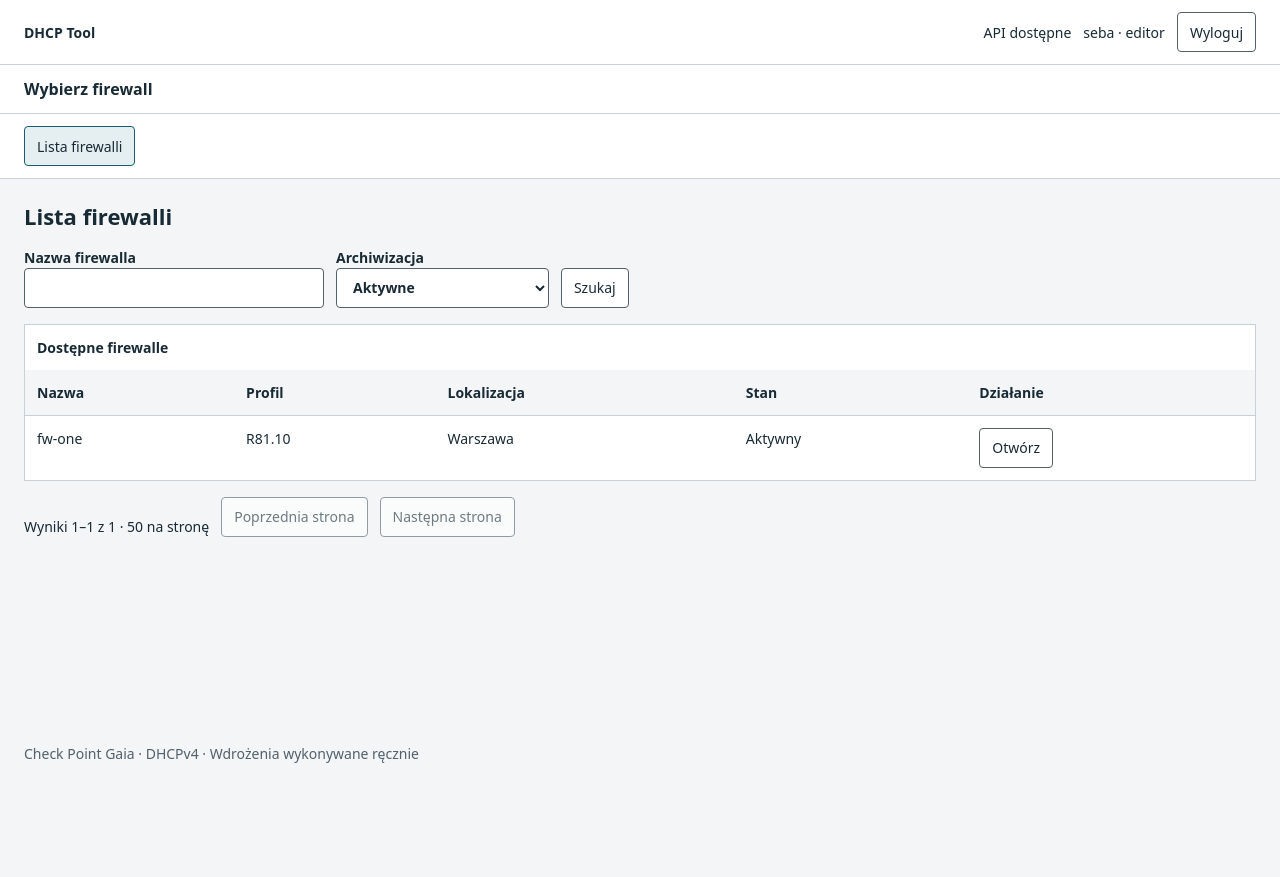
requires confirmation including all descendants before deleting a subnet
Step 1. Click the button with aria-label "Otwórz fw-one" → click(1016, 448), box [979,428,1053,468]
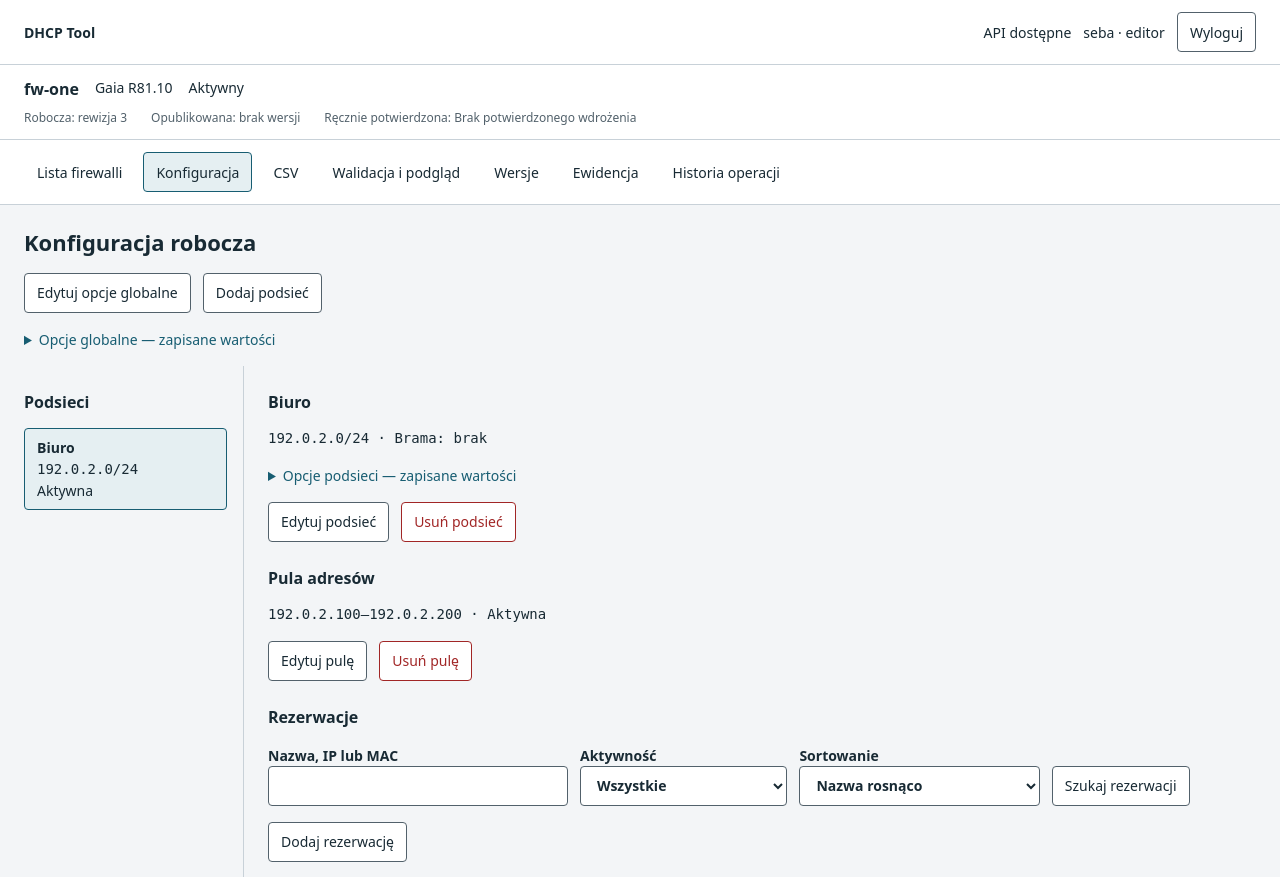
Expected: the heading "Konfiguracja robocza" is shown, [24,227,256,257]
Step 2. Click the button "Usuń podsieć" → click(458, 522), box [401,502,516,542]
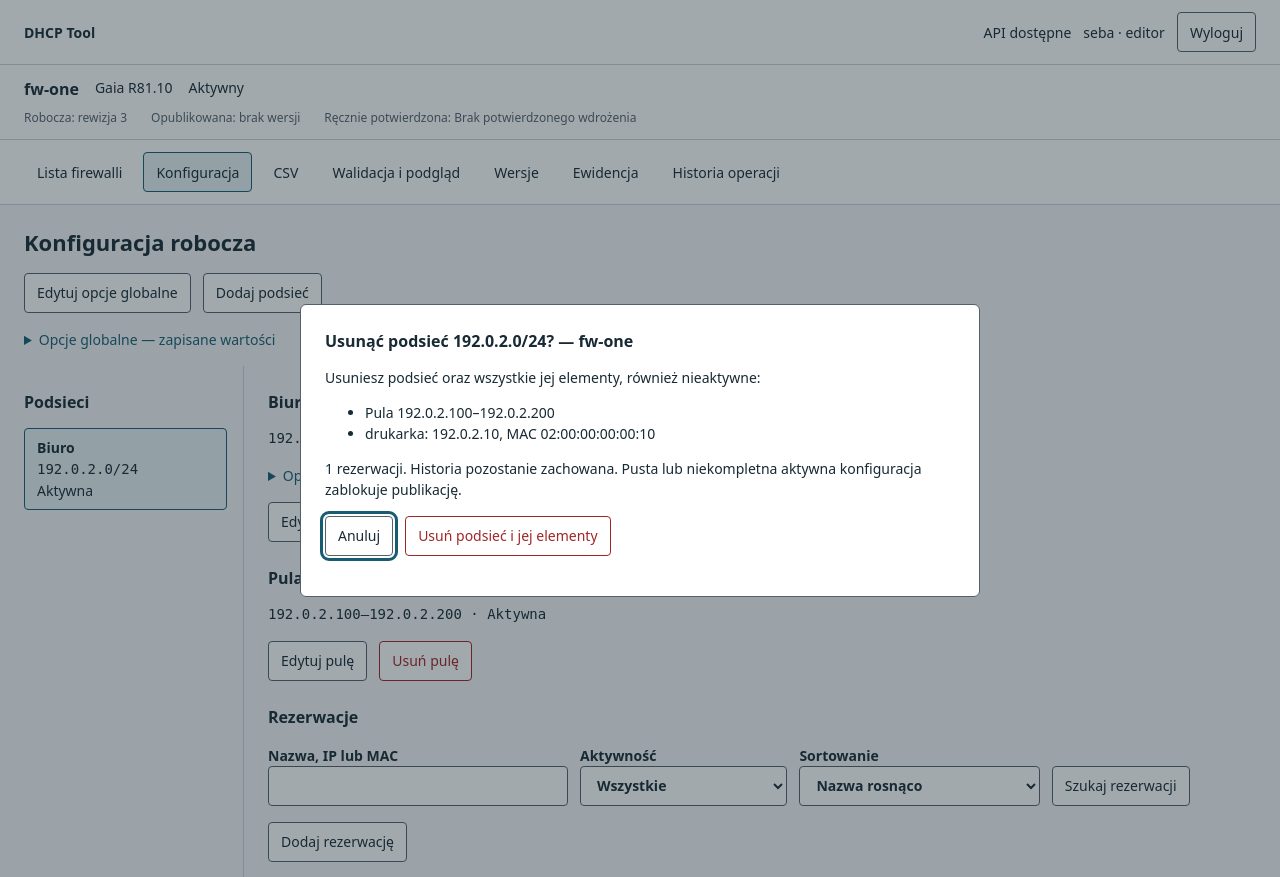
Expected: the list item "Pula 192.0.2.100–192.0.2.200" is shown, [365,402,555,422]
Expected: the list item "drukarka: 192.0.2.10, MAC 02:00:00:00:00:10" is shown, [365,424,655,442]
Step 3. Press Escape in the dialog, box [300,304,980,596]
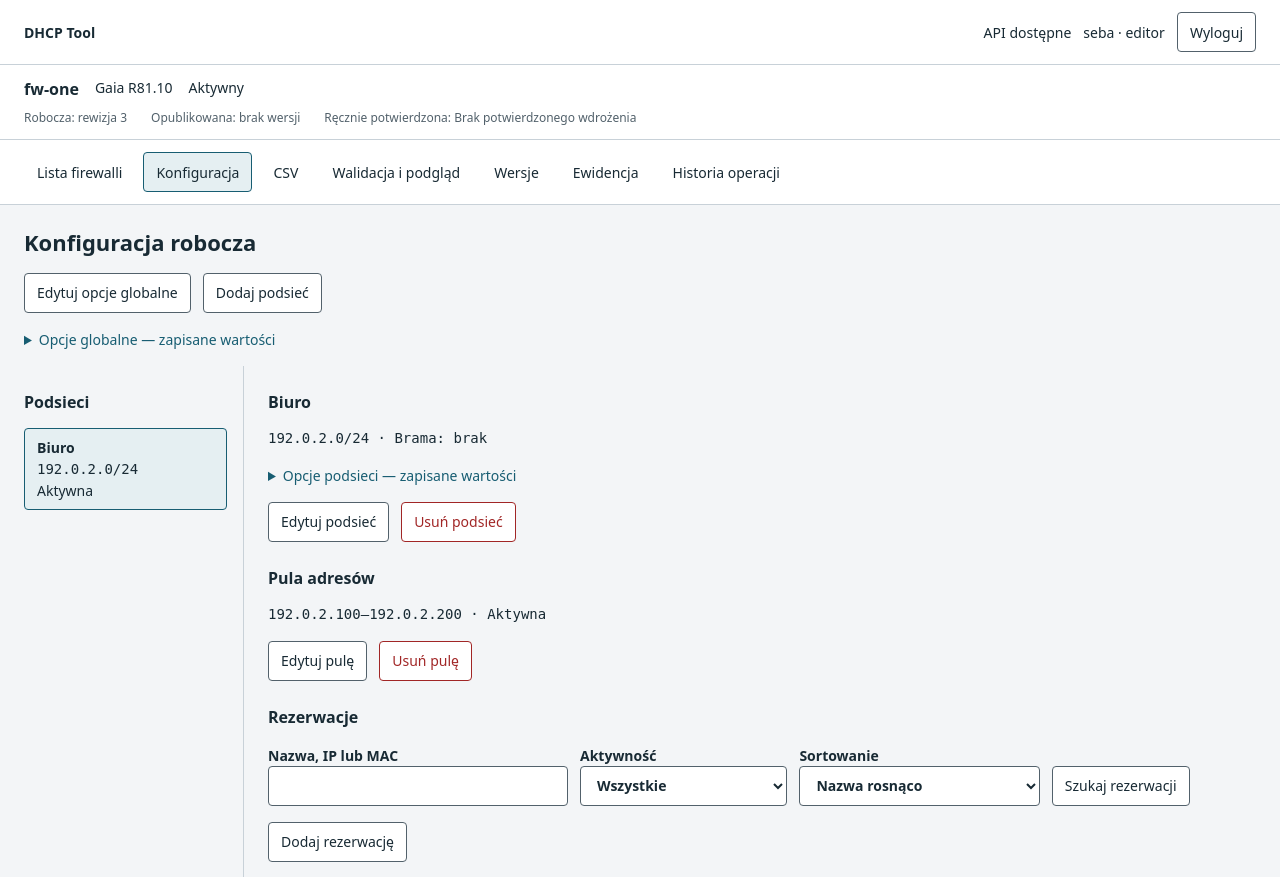
Expected: the dialog is gone
